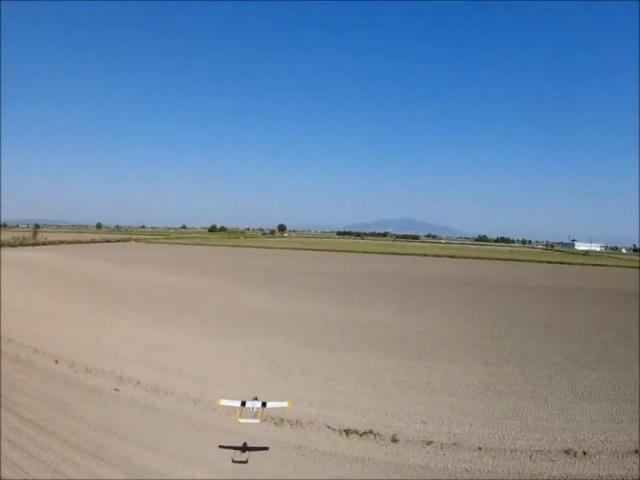hedef: (215, 390, 294, 426)
